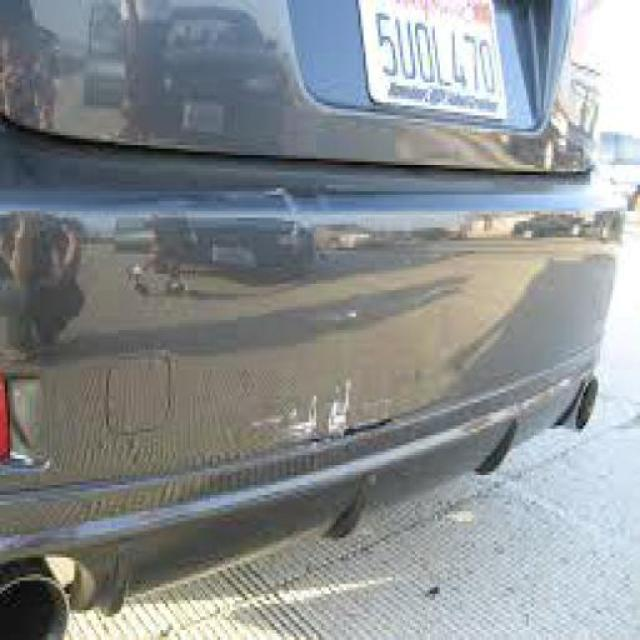car damage: (246, 371, 405, 449)
